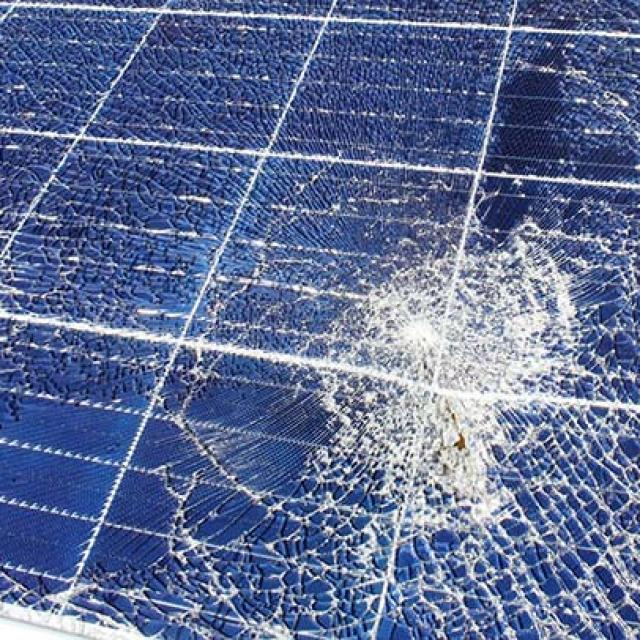physical damage: (3, 6, 640, 636)
